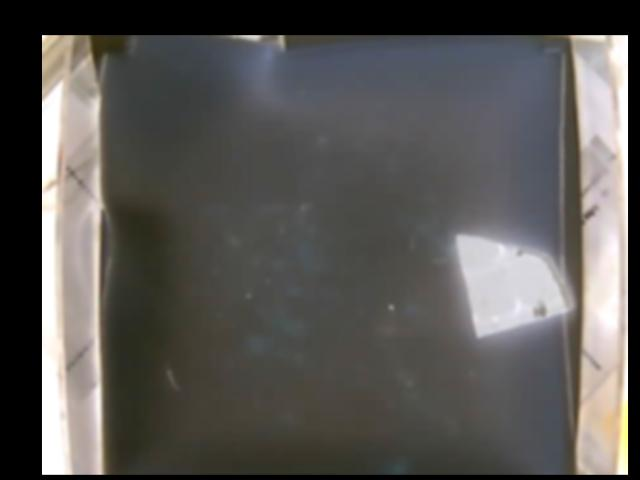China: (458, 225, 572, 337)
